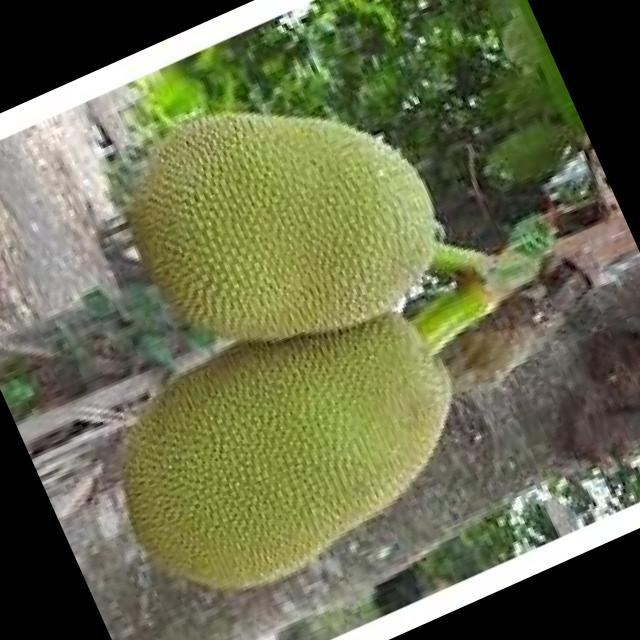Fruit: (42, 241, 519, 640), (69, 16, 490, 422)
